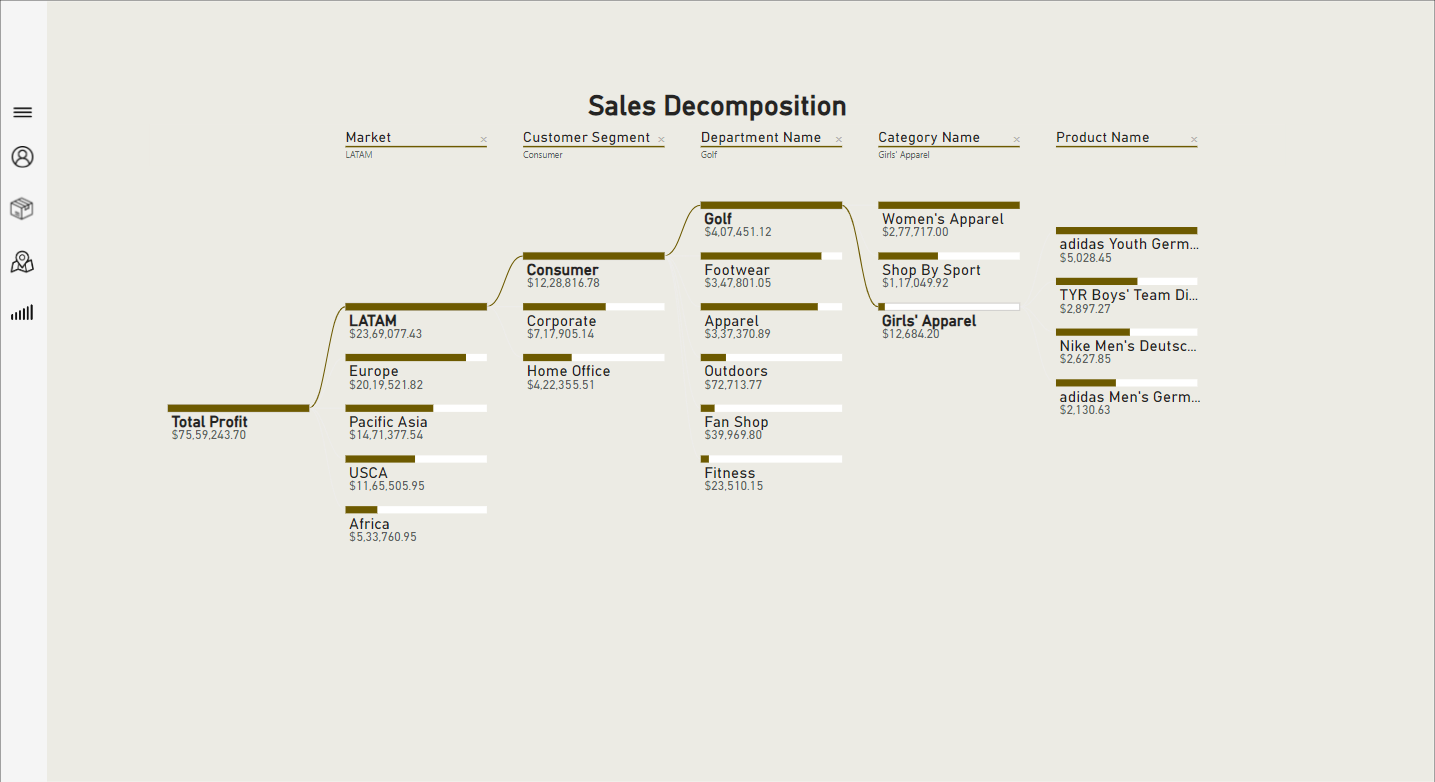

The dashboard page shown, as its layout file describes it:
{"tool":"powerbi","page":{"name":"Sales Composition","canvas":[1980,1080],"ordinal":4},"visuals":[{"type":"decompositionTreeVisual","title":"Sales Decomposition","fields":{"ExplainBy":["DataCoSupplyChainDataset.Market","DataCoSupplyChainDataset.Customer Segment","DataCoSupplyChainDataset.Department Name","DataCoSupplyChainDataset.Category Name","DataCoSupplyChainDataset.Product Name"],"Analyze":["Measure.profit"]},"box":[202,122,1576,826],"z":0},{"type":"actionButton","box":[10.2,122.7,42,66.7],"z":0,"group":"g1"},{"type":"group","id":"g1","title":"Group 5","box":[4,122.7,54,354.3],"z":1000},{"type":"actionButton","box":[12.2,186.4,38,60],"z":1000,"group":"g1"},{"type":"actionButton","box":[5.9,243.4,49.3,88.6],"z":2000,"group":"g1"},{"type":"image","box":[8.4,329,44.5,63],"z":3000,"group":"g1"},{"type":"image","box":[4,389,54,88],"z":4000,"group":"g1"}]}

Visuals, with their boxes on the page's 1980x1080 design canvas (x1, y1, x2, y2). These are canvas units, not pixel positions in the 1435x782 screenshot, which may show the page scaled, cropped or inside an application window:
"Sales Decomposition" decompositionTreeVisual: (202, 122, 1778, 948)
actionButton: (10, 123, 52, 189)
"Group 5" group: (4, 123, 58, 477)
actionButton: (12, 186, 50, 246)
actionButton: (6, 243, 55, 332)
image: (8, 329, 53, 392)
image: (4, 389, 58, 477)
